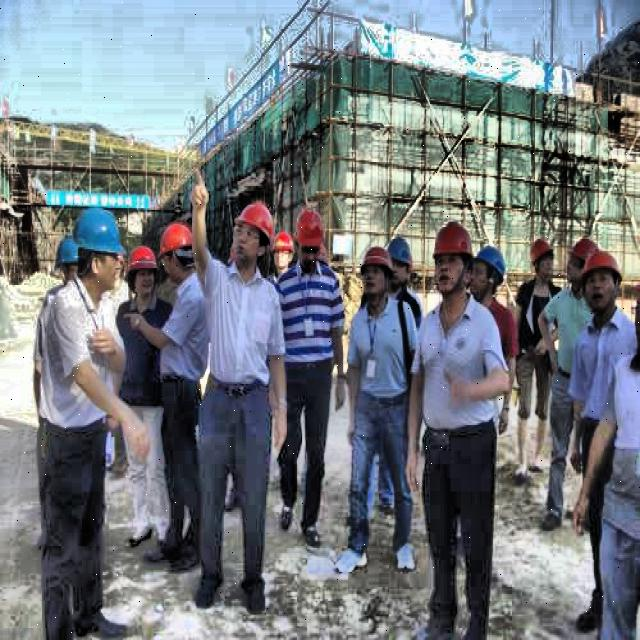helmet: (70, 210, 126, 292), (431, 216, 475, 294), (578, 240, 622, 316), (232, 200, 272, 274), (159, 212, 193, 280), (296, 206, 330, 268), (358, 240, 391, 302), (472, 242, 508, 298), (124, 246, 158, 304), (560, 232, 594, 288), (527, 234, 557, 288), (388, 234, 412, 290), (269, 225, 293, 278)
